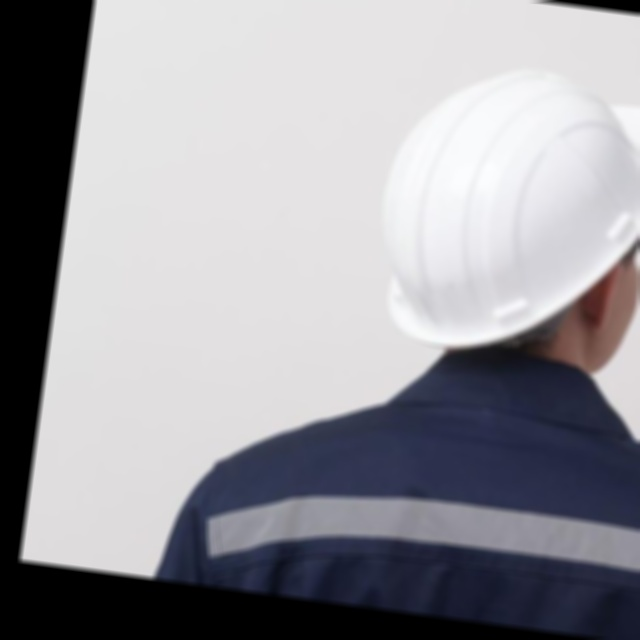Con_Casco: (364, 48, 640, 386)
